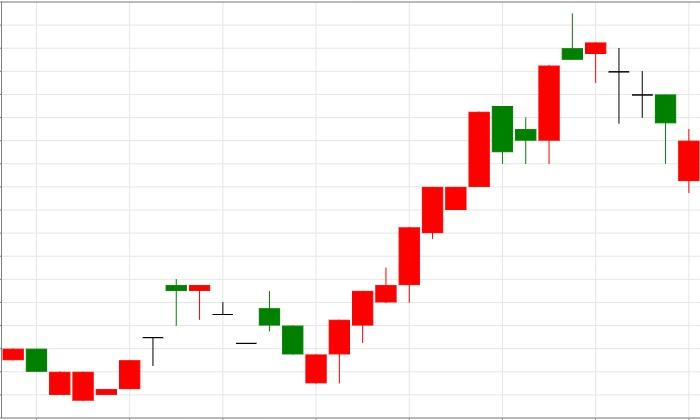three_white_soldiers_rise: (259, 290, 374, 384)
